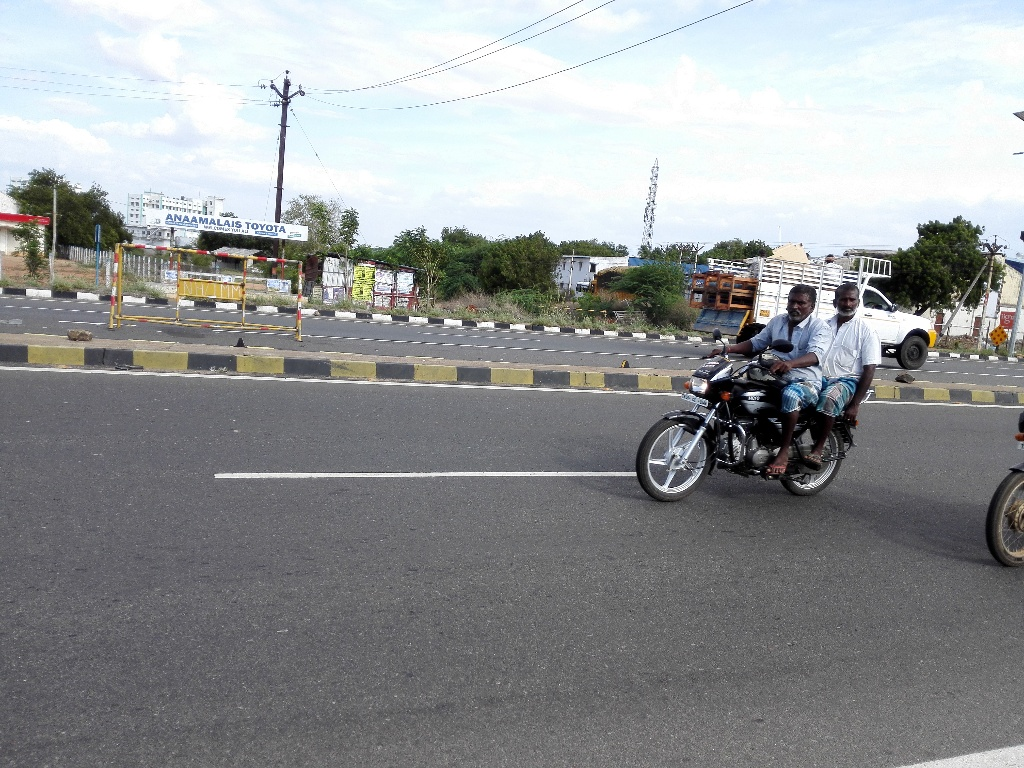biker: (604, 246, 905, 515)
nohelmet: (828, 278, 867, 327), (783, 276, 822, 325)
